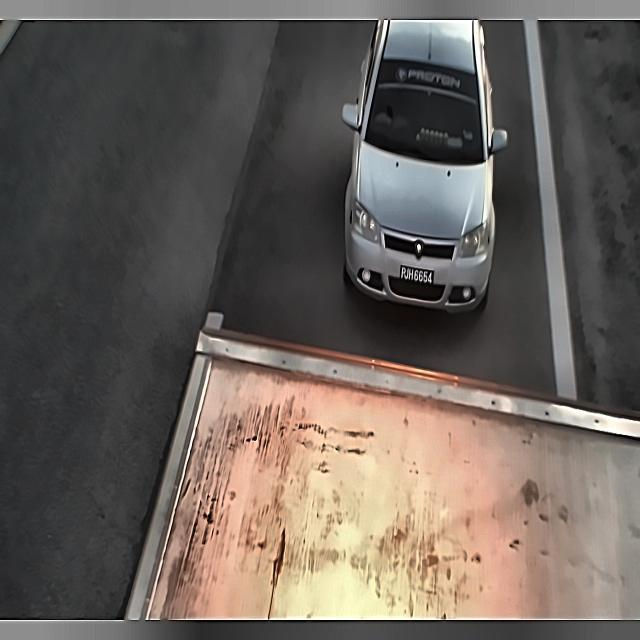car: (395, 255, 436, 294)
